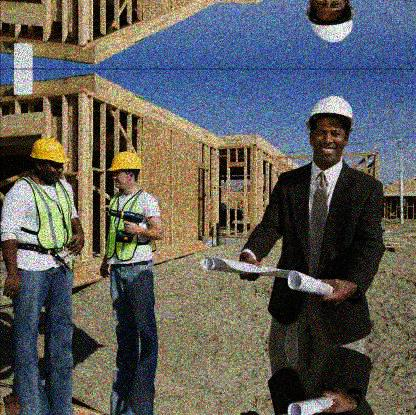helmet: (306, 95, 354, 163), (29, 136, 72, 186), (306, 1, 356, 44), (107, 150, 144, 192)
